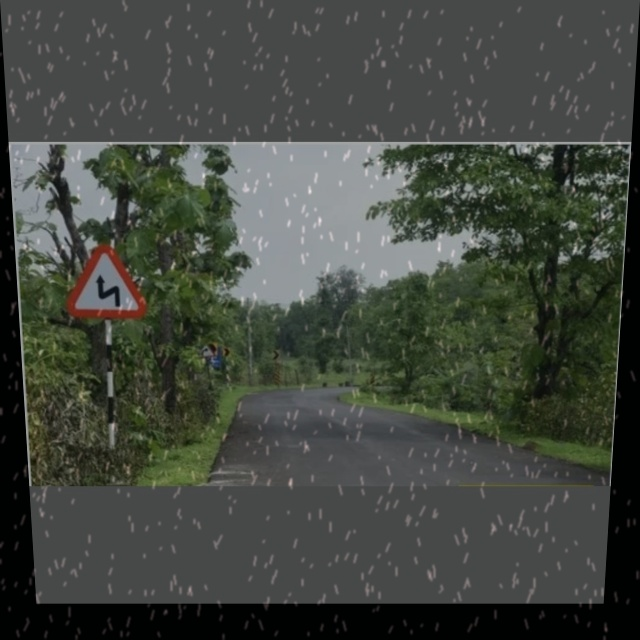Left_Reverse_Bend: (65, 242, 142, 318)
